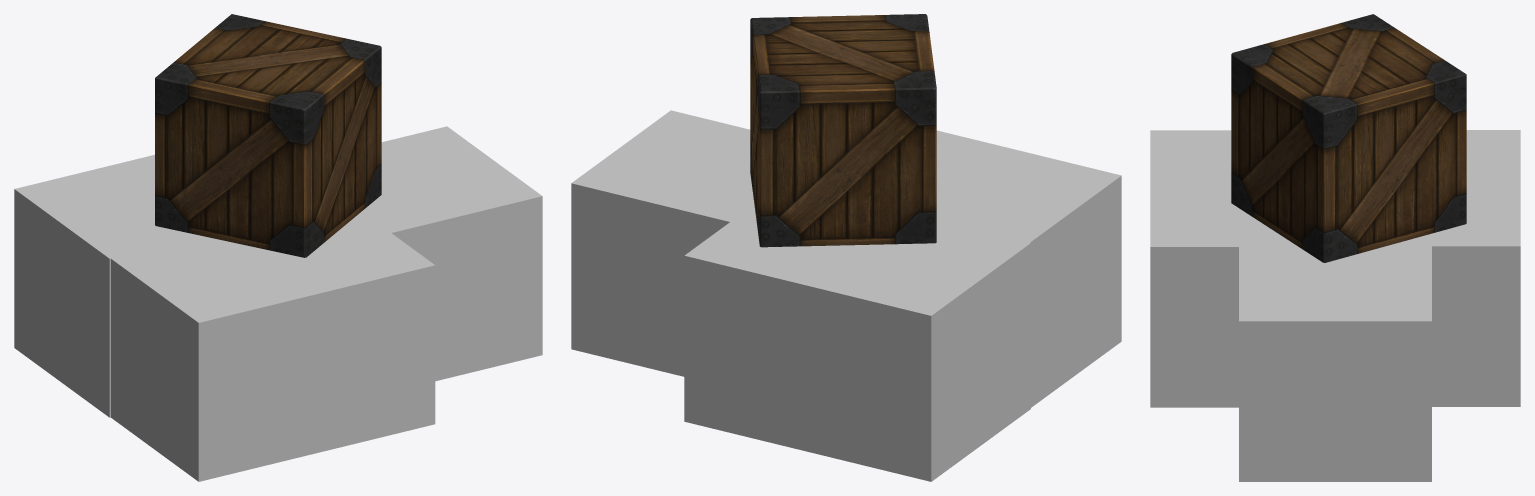
The model's file is Crates.obj.
3 renders of one model, left to right at view 1: azimuth 30°, elevation 25°; view 2: azimuth 150°, elevation 25°; view 3: azimuth 270°, elevation 25°, orthographic. The views are drawn at different scales.
Parts seen in each view (by area): view 1: cBox_Crate_Cube.039, Crate.003_Cube.103, cBox_Crate.001_Cube.095, cBox_Crate.002_Cube.102; view 2: cBox_Crate.002_Cube.102, Crate.003_Cube.103, cBox_Crate.001_Cube.095, cBox_Crate_Cube.039; view 3: Crate.003_Cube.103, cBox_Crate.001_Cube.095, cBox_Crate_Cube.039, cBox_Crate.002_Cube.102.
Part boxes in pixels (x1,y1,x2,y2): cBox_Crate_Cube.039: (103, 213, 435, 481); Crate.003_Cube.103: (155, 14, 381, 257); cBox_Crate.001_Cube.095: (320, 126, 542, 381); cBox_Crate.002_Cube.102: (14, 154, 199, 417); cBox_Crate.002_Cube.102: (684, 205, 1030, 481); Crate.003_Cube.103: (750, 14, 936, 247); cBox_Crate.001_Cube.095: (571, 110, 757, 376); cBox_Crate_Cube.039: (936, 130, 1121, 407); Crate.003_Cube.103: (1231, 14, 1466, 262); cBox_Crate.001_Cube.095: (1239, 209, 1431, 481); cBox_Crate_Cube.039: (1150, 130, 1298, 407); cBox_Crate.002_Cube.102: (1388, 130, 1520, 406).
Size of the model in its own units: 5.29 by 4 by 4.32.
